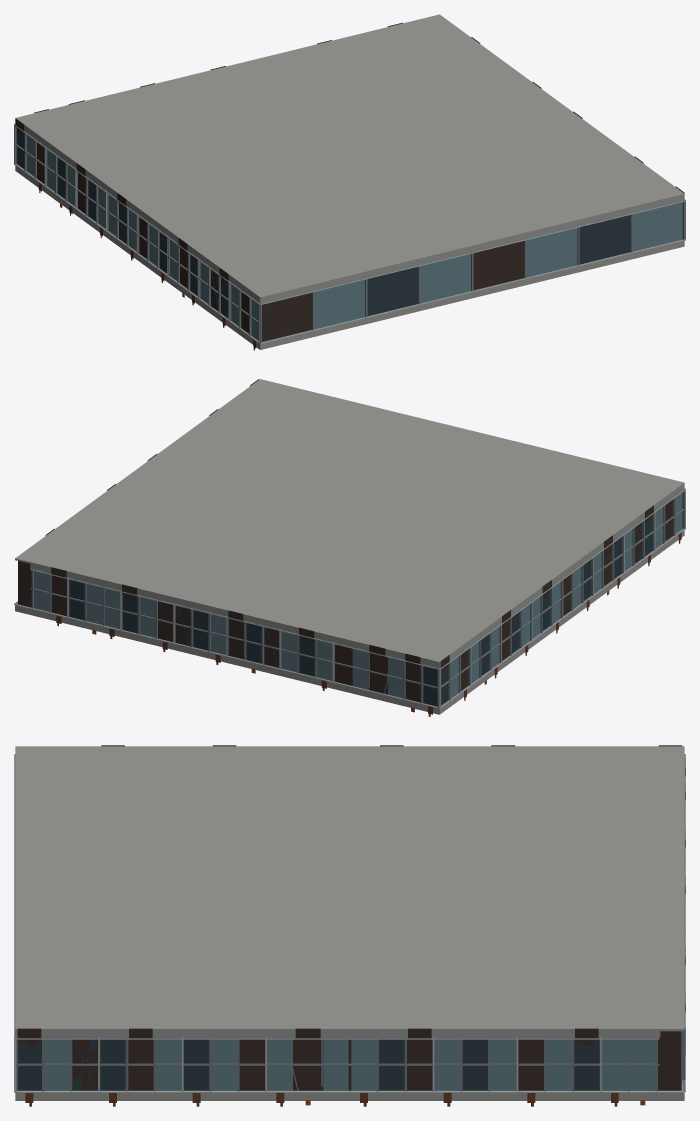
Rendered from tw_glass_32_floor_c.glb.
3 views of the same model, one above another, from view 1: azimuth 30°, elevation 25°; view 2: azimuth 150°, elevation 25°; view 3: azimuth 270°, elevation 25° (orthographic). The views are drawn at different scales.
Parts seen in each view (by area): view 1: tw_glass_32_floor_c; view 2: tw_glass_32_floor_c; view 3: tw_glass_32_floor_c.
Boxes of the visible parts, bbox=[...] form: tw_glass_32_floor_c: bbox=[14, 14, 685, 350]; tw_glass_32_floor_c: bbox=[14, 379, 685, 716]; tw_glass_32_floor_c: bbox=[14, 745, 685, 1106].
Size of the model in its own units: 32.14 by 4.12 by 32.14.
3 materials, 3 textured.
